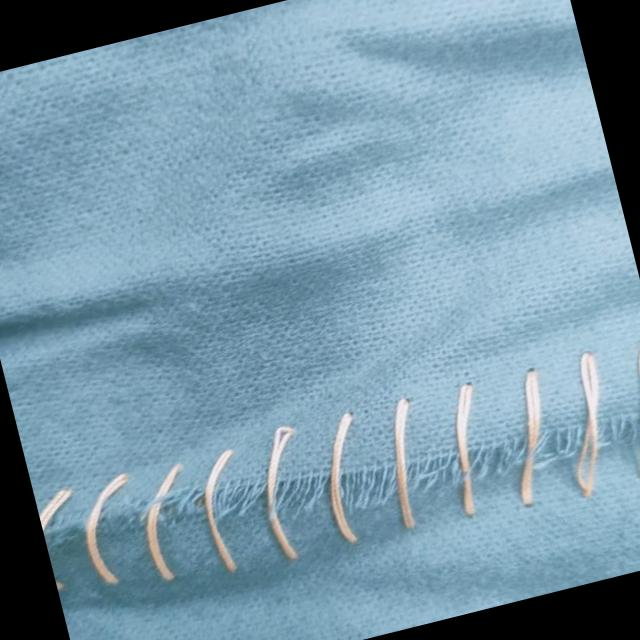seam: (30, 324, 640, 636)
